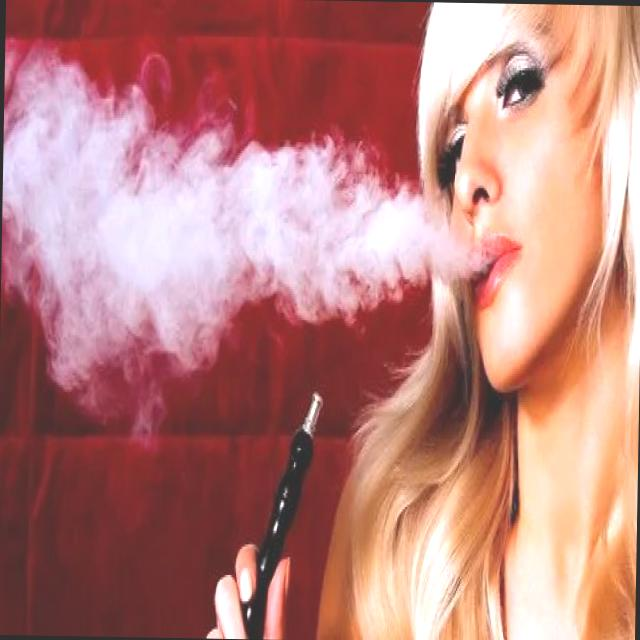cigarette: (227, 382, 326, 640)
